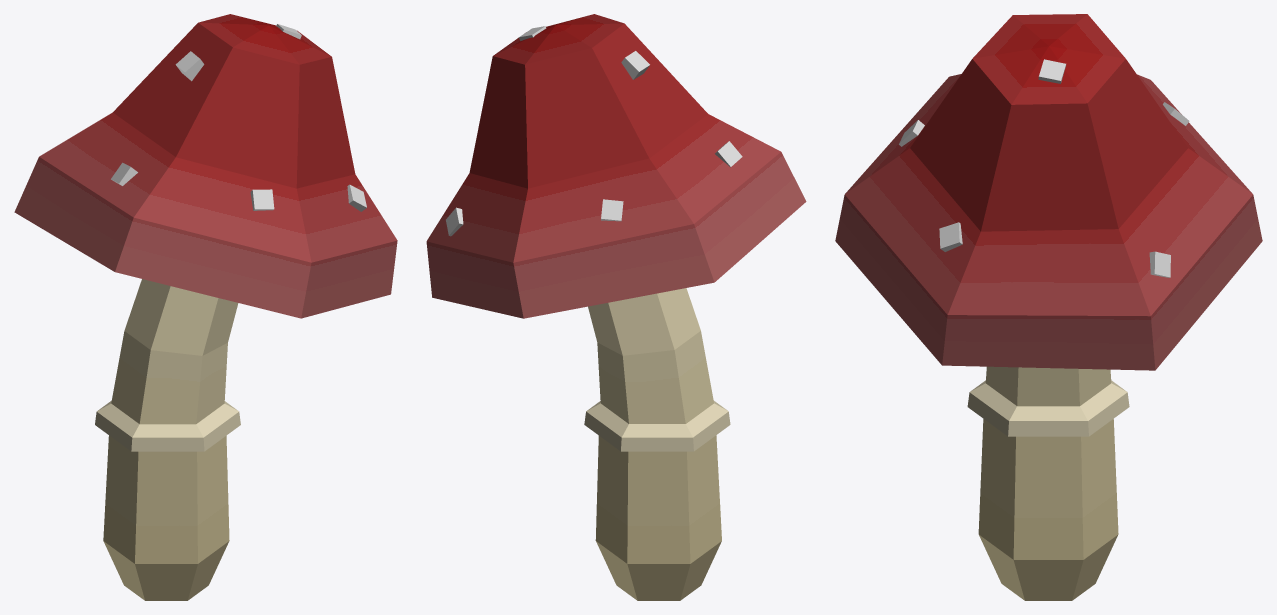
Rendered from Mushroom_003 1.fbx.
3 views of the same model, side by side, from view 1: azimuth 30°, elevation 25°; view 2: azimuth 150°, elevation 25°; view 3: azimuth 270°, elevation 25° (orthographic). The views are drawn at different scales.
Parts seen in each view (by area): view 1: Mushroom.003; view 2: Mushroom.003; view 3: Mushroom.003.
Part boxes in pixels (left/top/right/bottom): Mushroom.003: left=14, top=14, right=397, bottom=600; Mushroom.003: left=426, top=14, right=806, bottom=600; Mushroom.003: left=835, top=14, right=1262, bottom=600.
Bounding box in the file's own units: 0.8578 × 1.52 × 0.9875.
